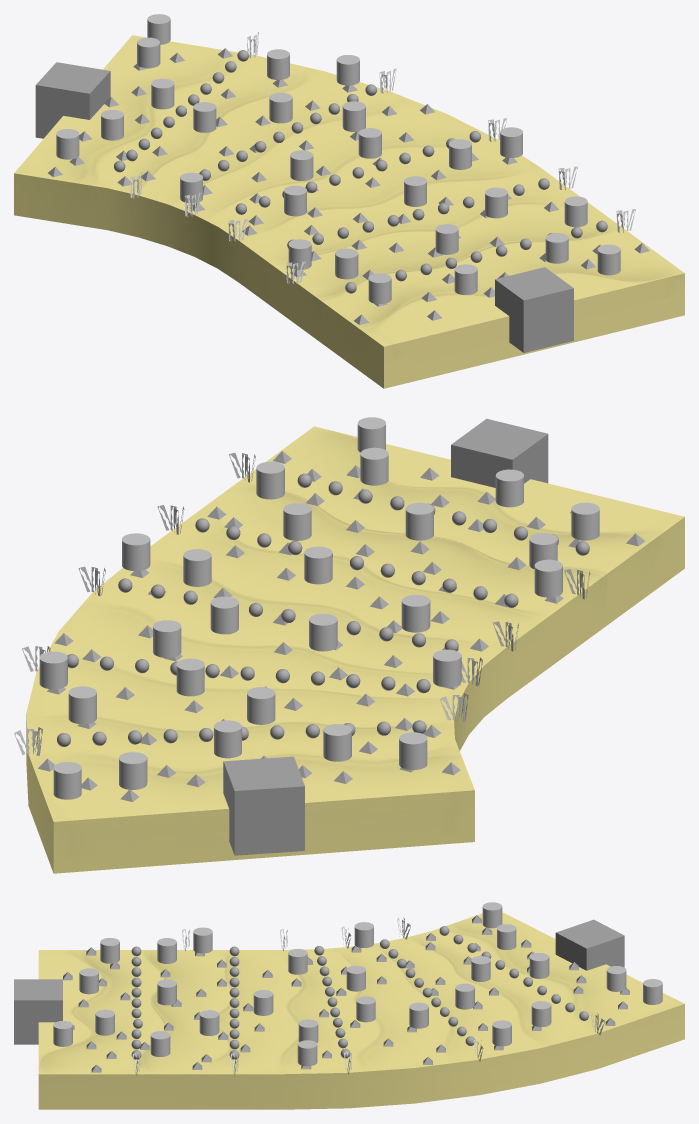
File: assets006_Streckenteil_links002.fbx
3 views of the same model, one above another, from view 1: azimuth 30°, elevation 25°; view 2: azimuth 150°, elevation 25°; view 3: azimuth 270°, elevation 25° (orthographic). The views are drawn at different scales.
Visible parts, largest first — view 1: streckenteil_linkskurve_geo2, a (×12), b (×10), startpoint, endpoint, c (×4); view 2: streckenteil_linkskurve_geo2, a (×12), b (×10), endpoint, startpoint, c (×4); view 3: streckenteil_linkskurve_geo2, a (×12), b (×10), endpoint, startpoint, c (×4).
Part boxes in pixels (left/top/right/bottom): streckenteil_linkskurve_geo2: left=14, top=35, right=684, bottom=388; a (×12): left=101, top=49, right=620, bottom=303; b (×10): left=151, top=55, right=587, bottom=279; startpoint: left=495, top=267, right=573, bottom=352; endpoint: left=35, top=62, right=110, bottom=138; c (×4): left=56, top=14, right=365, bottom=159; streckenteil_linkskurve_geo2: left=26, top=426, right=684, bottom=873; a (×12): left=68, top=417, right=599, bottom=761; b (×10): left=39, top=461, right=557, bottom=758; endpoint: left=223, top=756, right=304, bottom=855; startpoint: left=451, top=418, right=548, bottom=487; c (×4): left=53, top=620, right=427, bottom=799; streckenteil_linkskurve_geo2: left=38, top=912, right=684, bottom=1109; a (×12): left=53, top=924, right=551, bottom=1066; b (×10): left=150, top=922, right=549, bottom=1056; endpoint: left=555, top=919, right=624, bottom=970; startpoint: left=14, top=979, right=62, bottom=1044; c (×4): left=409, top=902, right=662, bottom=1028.
Size of the model in its own units: 40.95 by 6.68 by 68.46.
